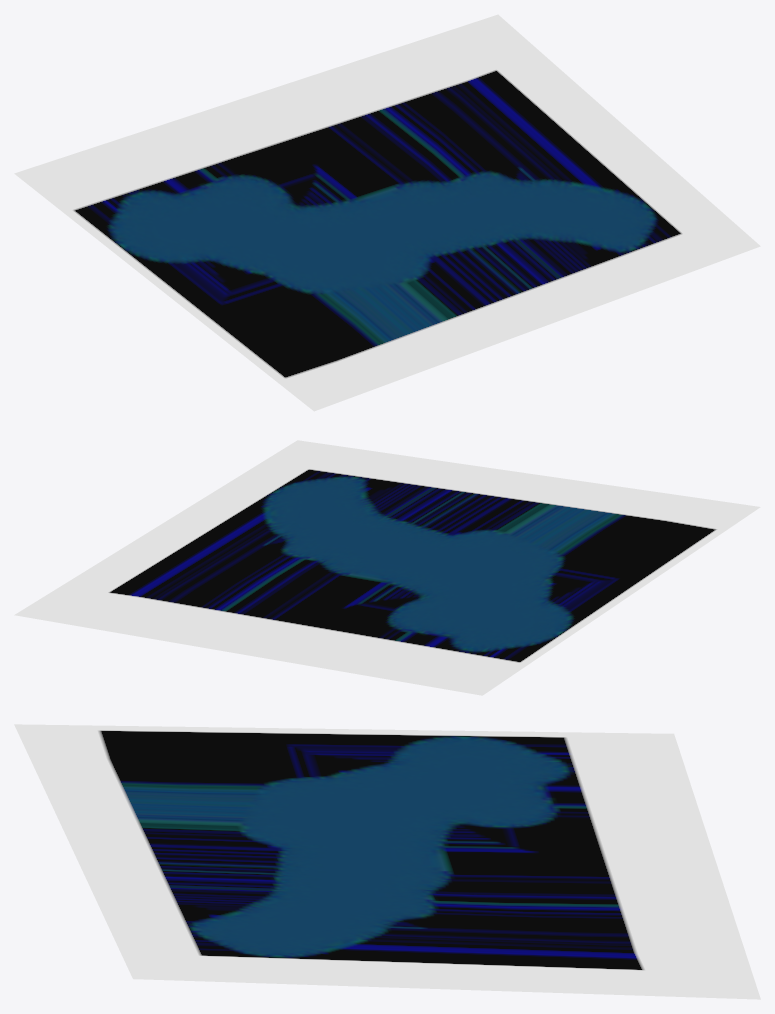
The model's file is 宝宝巴士-主框架-推送地图-过家家-鱼影子.FBX.
3 renders of one model, top to bottom at view 1: azimuth 30°, elevation 25°; view 2: azimuth 150°, elevation 25°; view 3: azimuth 270°, elevation 25°, orthographic. The views are drawn at different scales.
Parts seen in each view (by area): view 1: 宝宝巴士-主框架-推送地图-过家家-鱼影子; view 2: 宝宝巴士-主框架-推送地图-过家家-鱼影子; view 3: 宝宝巴士-主框架-推送地图-过家家-鱼影子.
Part boxes in pixels (x1,y1,x2,y2): 宝宝巴士-主框架-推送地图-过家家-鱼影子: (14,14,760,411); 宝宝巴士-主框架-推送地图-过家家-鱼影子: (14,440,760,695); 宝宝巴士-主框架-推送地图-过家家-鱼影子: (14,724,760,999).
Size of the model in its own units: 108 by 2.38e-05 by 123.
